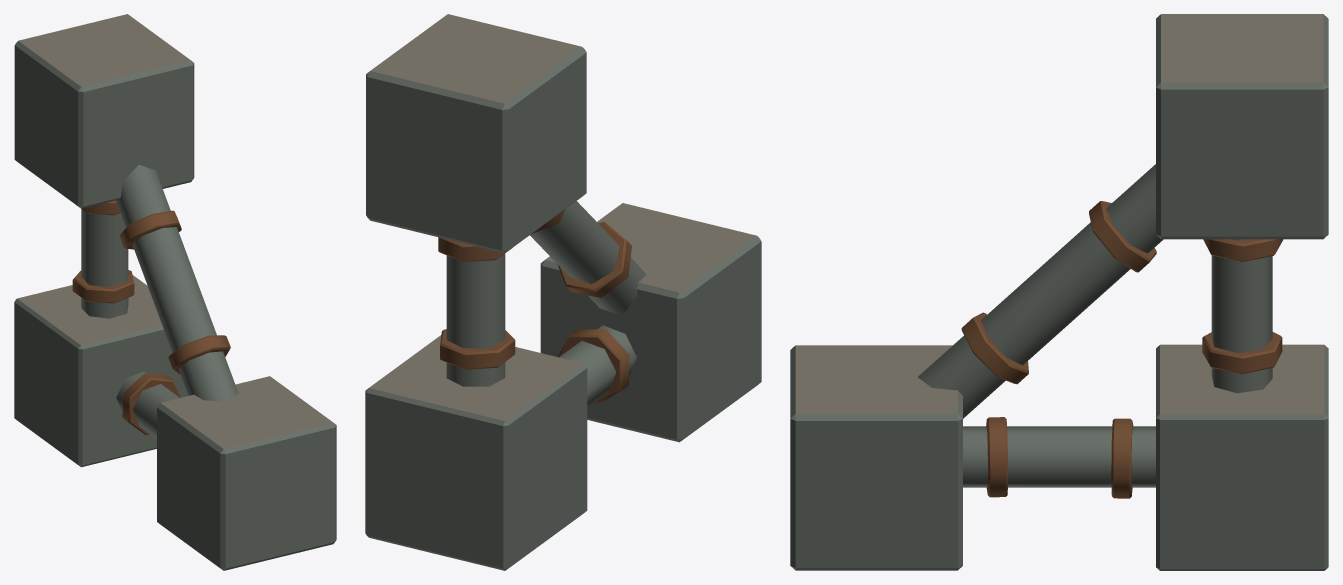
The model's file is R4C_STRUT_RAMP_LOD1.fbx.
3 renders of one model, left to right at view 1: azimuth 30°, elevation 25°; view 2: azimuth 150°, elevation 25°; view 3: azimuth 270°, elevation 25°, orthographic. The views are drawn at different scales.
Visible parts, largest first — view 1: R4C_STRUT_RAMP_LOD1; view 2: R4C_STRUT_RAMP_LOD1; view 3: R4C_STRUT_RAMP_LOD1.
Boxes of the visible parts, x1=… form: R4C_STRUT_RAMP_LOD1: x1=14, y1=14, x2=336, y2=570; R4C_STRUT_RAMP_LOD1: x1=365, y1=14, x2=761, y2=570; R4C_STRUT_RAMP_LOD1: x1=790, y1=14, x2=1328, y2=570.
Size of the model in its own units: 0.52 by 1.62 by 1.62.
